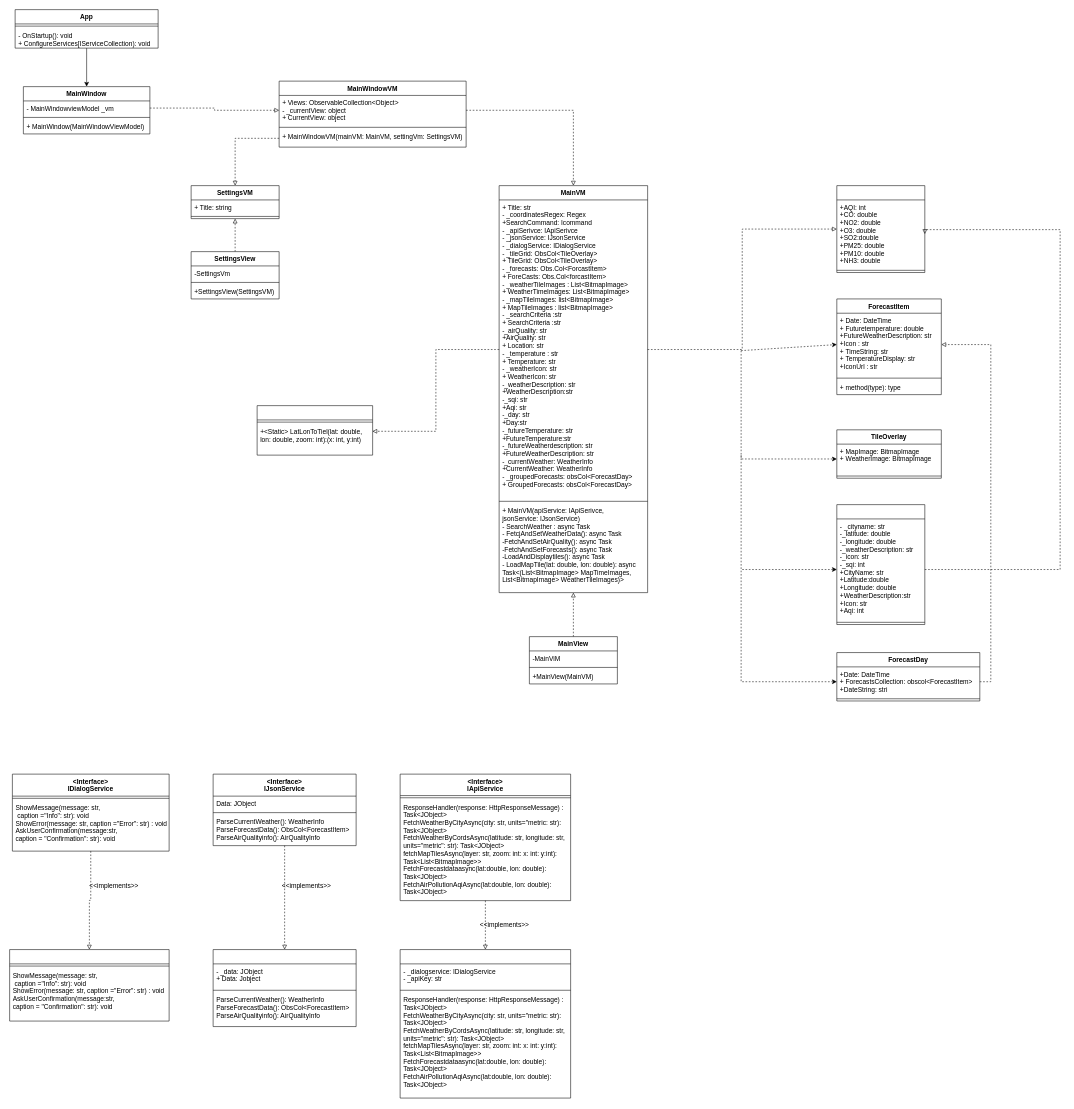
The diagram is 1074 pixels wide and 1109 high, and some of its shapes have lost their labels. Each missing label, with the box of its shape:
AirQualityInfo: (836, 185, 925, 273)
ApiInterface: (400, 949, 571, 1098)
DialogService: (9, 949, 169, 1021)
JsonService: (213, 949, 356, 1027)
MapTileHelper: (257, 405, 373, 455)
WeatherInfo: (836, 504, 925, 625)
